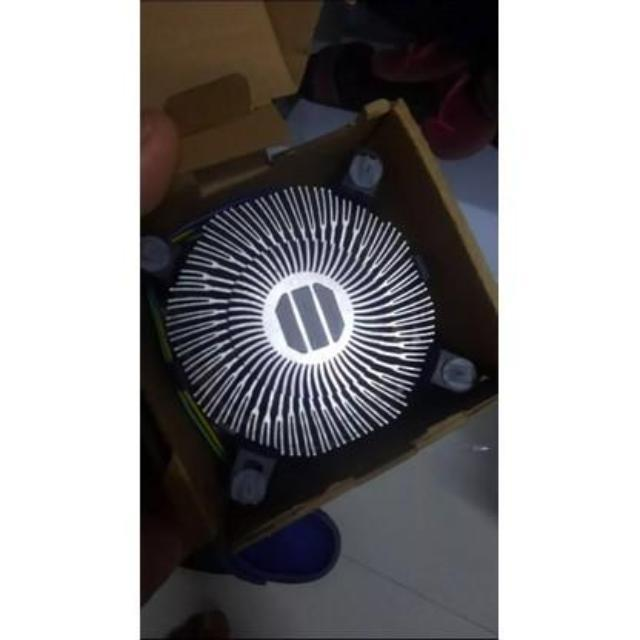CPU_Fan: (140, 142, 492, 510)
